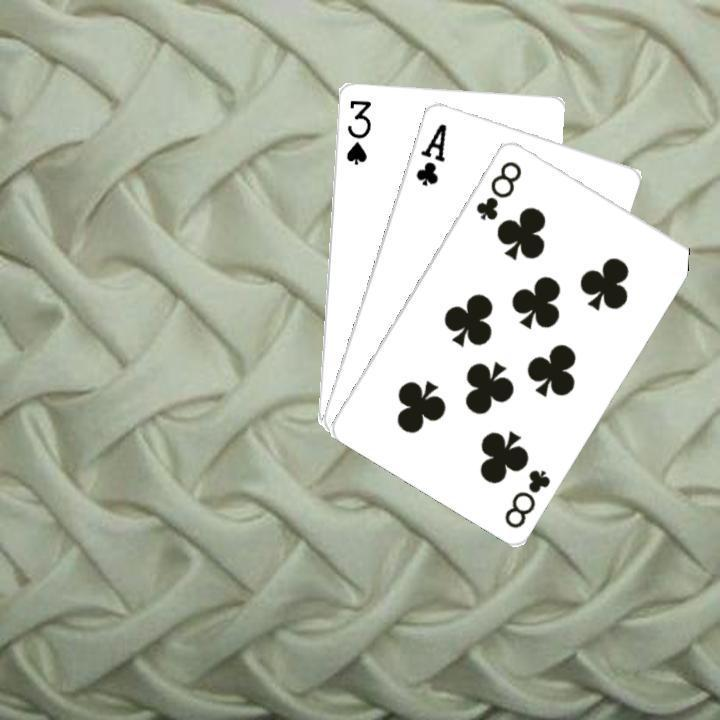3: (341, 95, 373, 166)
8: (499, 464, 553, 530), (471, 156, 524, 222)
A: (411, 119, 449, 187)
